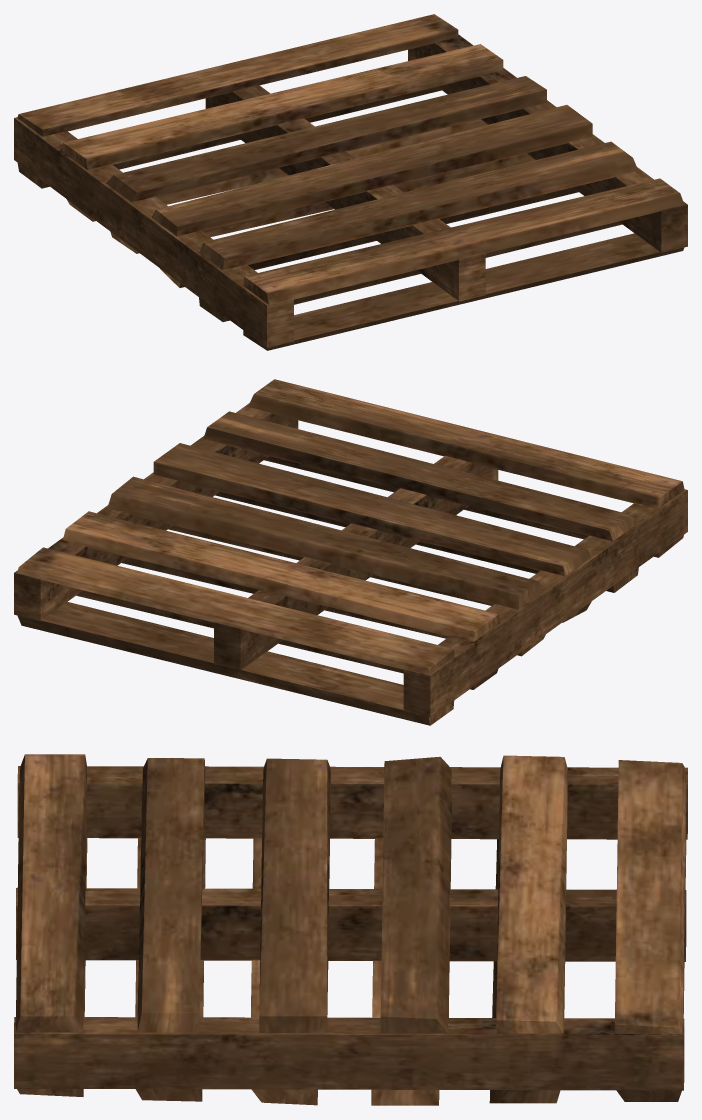
Rendered from pallet-wood.glb.
3 views of the same model, one above another, from view 1: azimuth 30°, elevation 25°; view 2: azimuth 150°, elevation 25°; view 3: azimuth 270°, elevation 25° (orthographic). The views are drawn at different scales.
Size of the model in its own units: 0.936 by 0.144 by 0.9884.
Materials: 1 (1 with a texture image).
